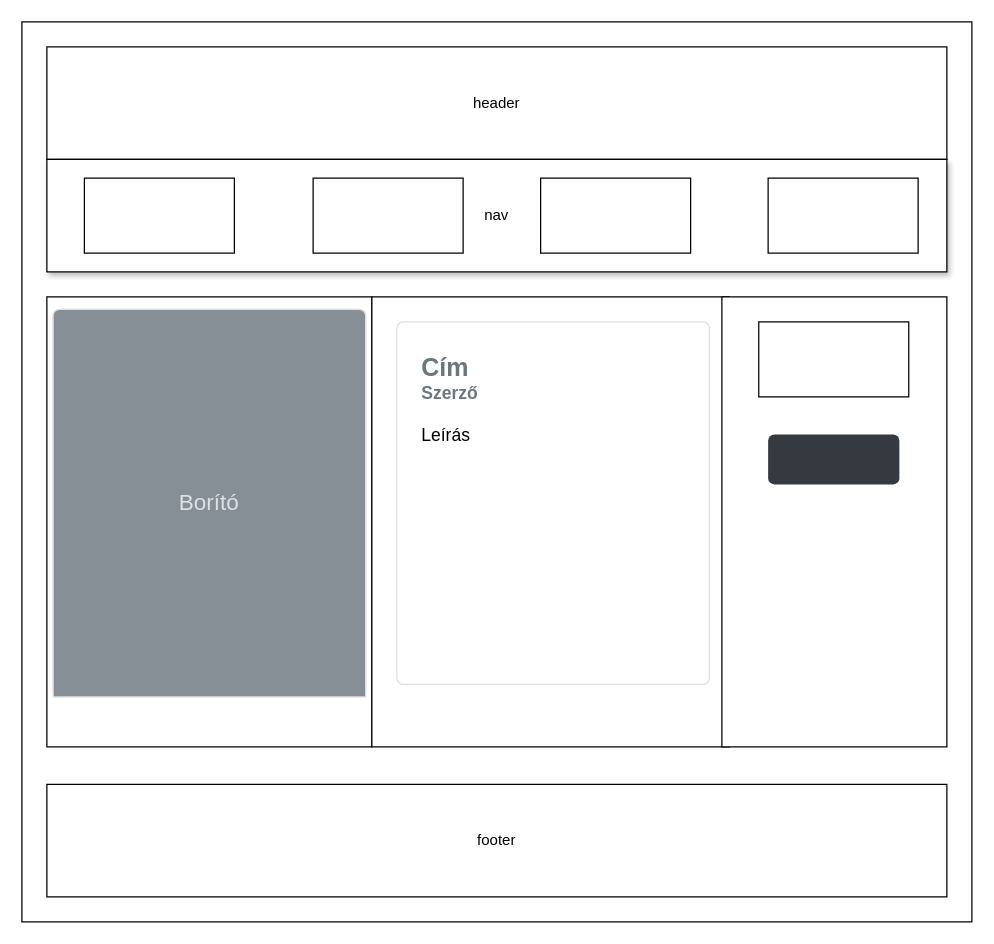
Some shapes in this 994 by 944 pixel diagram are drawn without their labels. Here are the shapes that lost their labels. From the top down, the centre of each, then its label:
At (833,359): "Ár".
At (833,459): "Kosárba".
